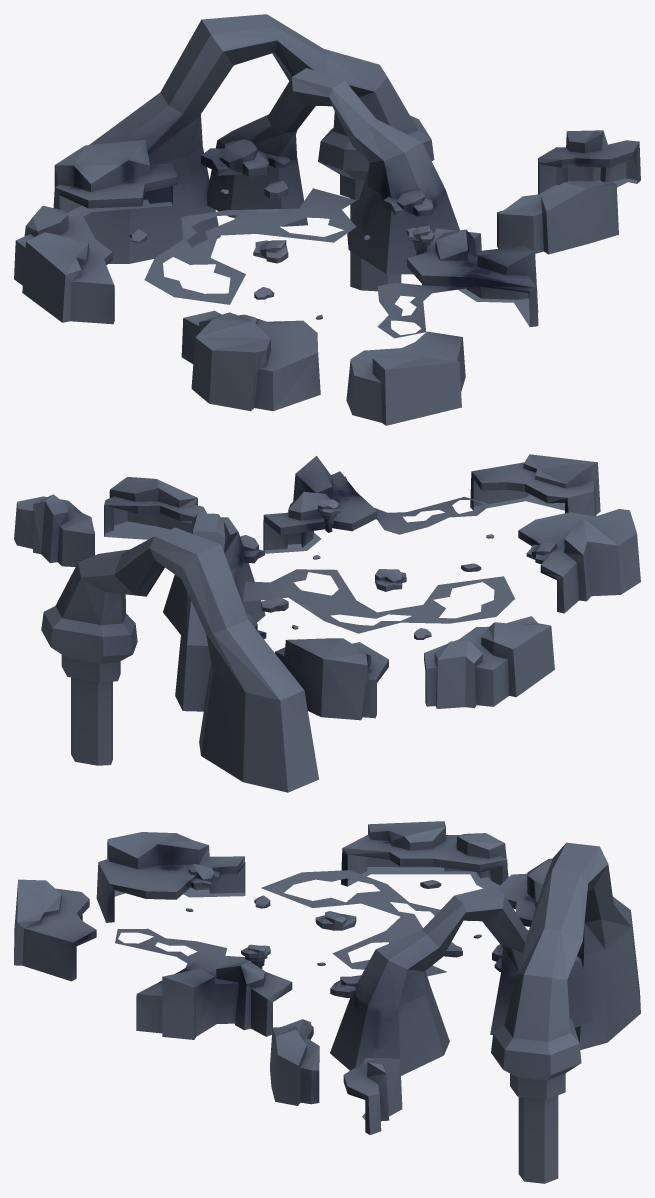
File: Stone_01.FBX
3 views of the same model, one above another, from view 1: azimuth 30°, elevation 25°; view 2: azimuth 150°, elevation 25°; view 3: azimuth 270°, elevation 25° (orthographic). The views are drawn at different scales.
Visible parts, largest first — view 1: Stone_01; view 2: Stone_01; view 3: Stone_01.
Boxes of the visible parts, x1,y1,x2,y2 form: Stone_01: [14, 14, 640, 425]; Stone_01: [14, 454, 640, 792]; Stone_01: [14, 821, 640, 1183].
Size of the model in its own units: 37.07 by 16.86 by 36.65.
